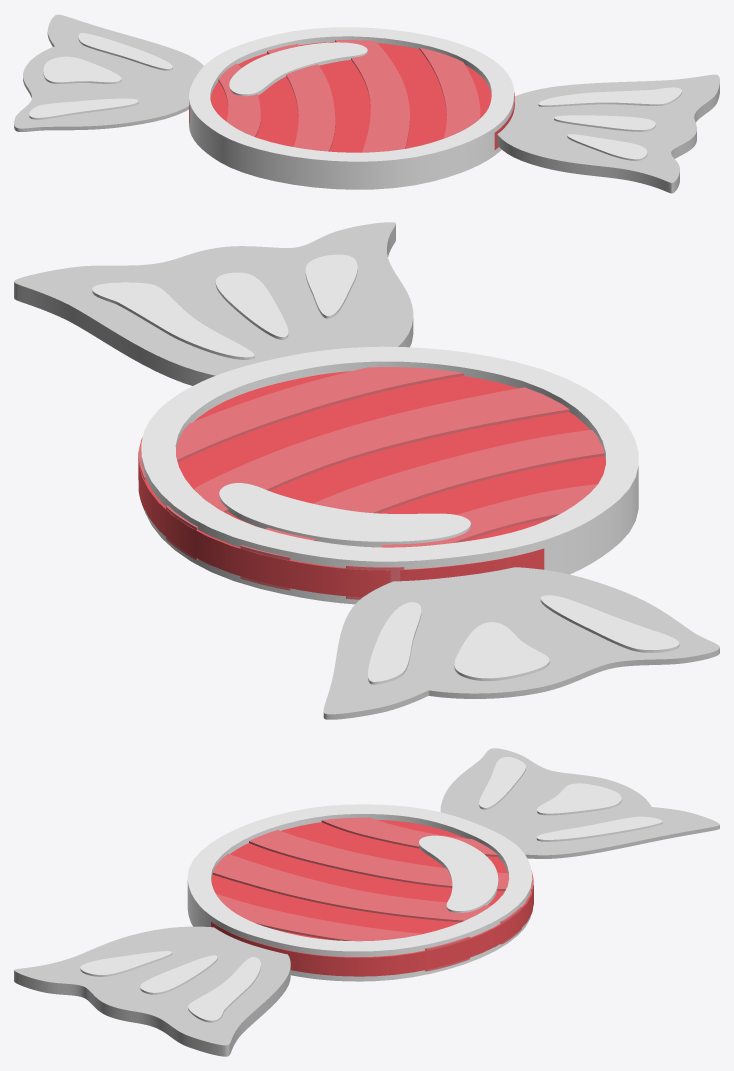
Rendered from emoji_u1f36c.glb.
The picture shows the model from 3 angles, top to bottom: view 1: azimuth 30°, elevation 25°; view 2: azimuth 150°, elevation 25°; view 3: azimuth 270°, elevation 25°; orthographic projection. The views are drawn at different scales.
Visible parts, largest first — view 1: emoji_u1f36c; view 2: emoji_u1f36c; view 3: emoji_u1f36c.
Part boxes in pixels (x1=…): emoji_u1f36c: x1=14, y1=14, x2=719, y2=193; emoji_u1f36c: x1=14, y1=222, x2=719, y2=719; emoji_u1f36c: x1=14, y1=748, x2=719, y2=1056.
Size of the model in its own units: 0.0344 by 0.0016 by 0.0341.
